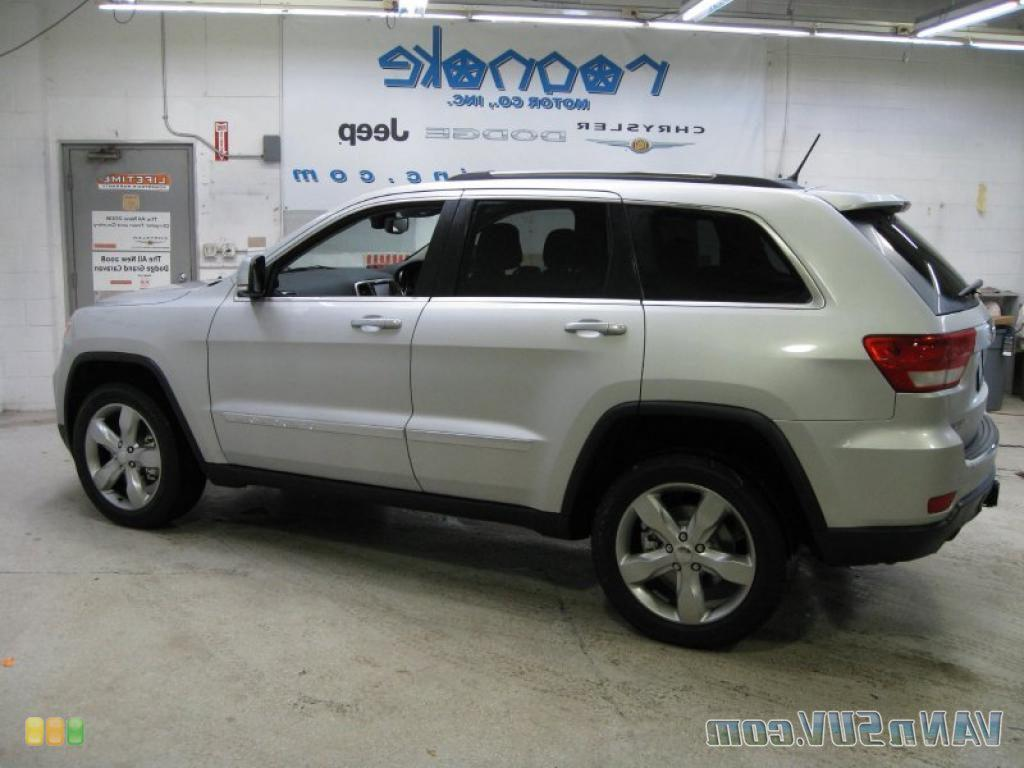Car: (27, 127, 1012, 683)
